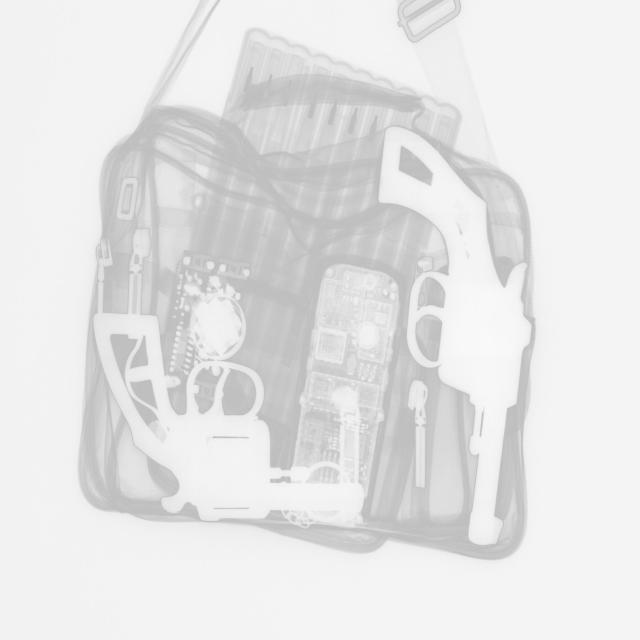pistol: (377, 121, 535, 550), (90, 310, 366, 524)
